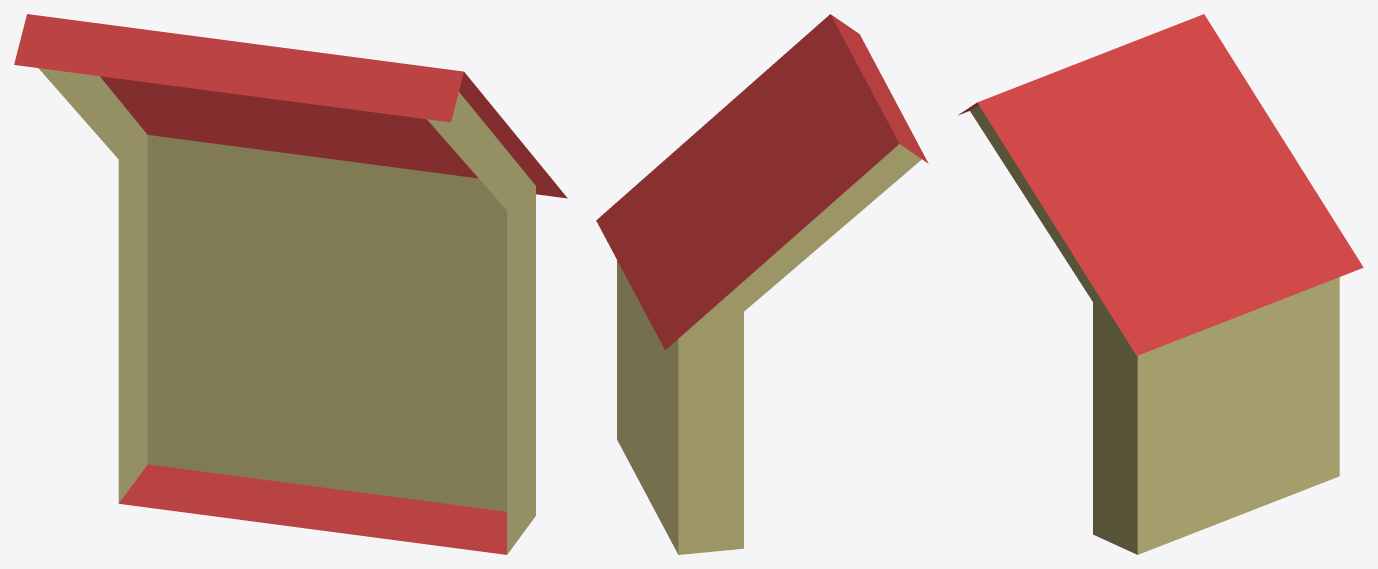
3 views of the same model, side by side, from view 1: azimuth 30°, elevation 25°; view 2: azimuth 150°, elevation 25°; view 3: azimuth 270°, elevation 25° (orthographic). The views are drawn at different scales.
Size of the model in its own units: 11.78 by 11.86 by 12.54.
